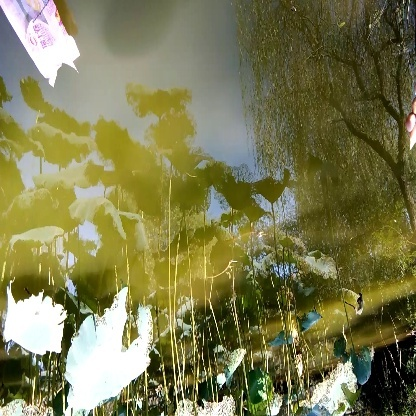plastic-bag: (1, 1, 85, 85)
